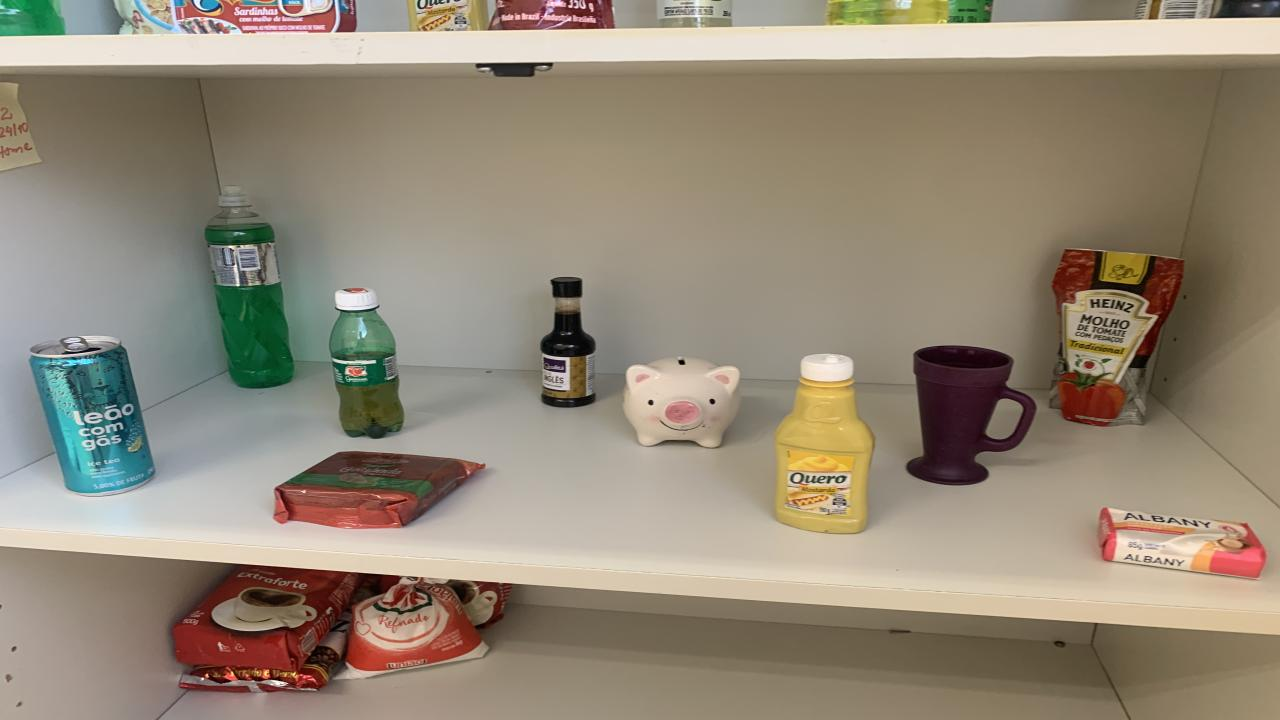Detergent-Cleanup_Items: (205, 186, 295, 388), (825, 0, 950, 24)
English_Sauce-Pantry_Items: (540, 278, 595, 407), (1135, 0, 1215, 19)
Guarana-Drinks: (330, 287, 405, 439)
Guava-Snacks: (275, 452, 485, 529)
Mustard-Pantry_Items: (775, 352, 875, 534), (408, 0, 488, 32)
Pig_Safe-Miscellaneous: (622, 356, 740, 448)
Pringles-Snacks: (948, 0, 992, 22)
Soap-Cleanup_Items: (1100, 508, 1265, 578)
Soda-Drinks: (658, 0, 732, 28)
Tea-Drinks: (30, 336, 155, 495)
Tomato_Sauce-Pantry_Items: (1050, 249, 1185, 426), (490, 0, 615, 30), (502, 13, 540, 21)
Tuna_Can-Pantry_Items: (170, 0, 358, 34)
